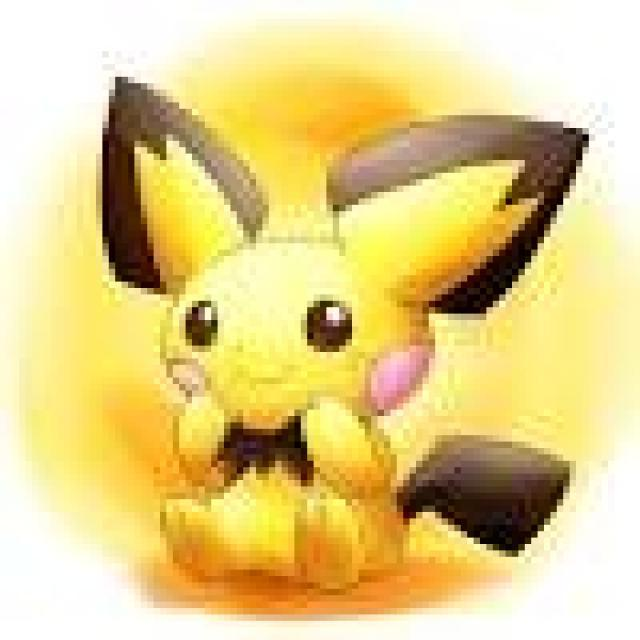pichu: (90, 43, 586, 592)
